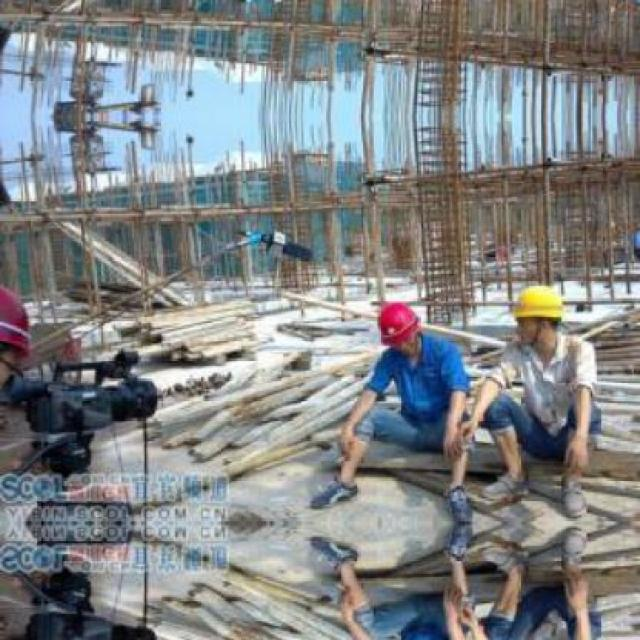helmet: (508, 280, 569, 345), (371, 294, 423, 352)
